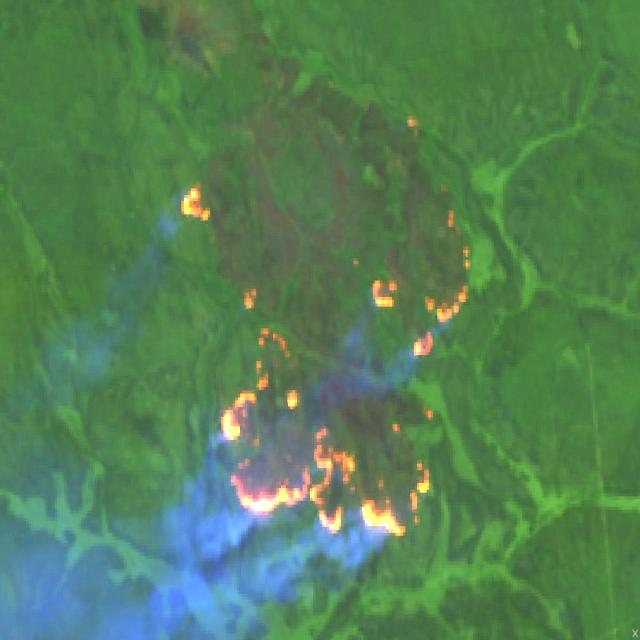fire: (170, 175, 474, 548)
